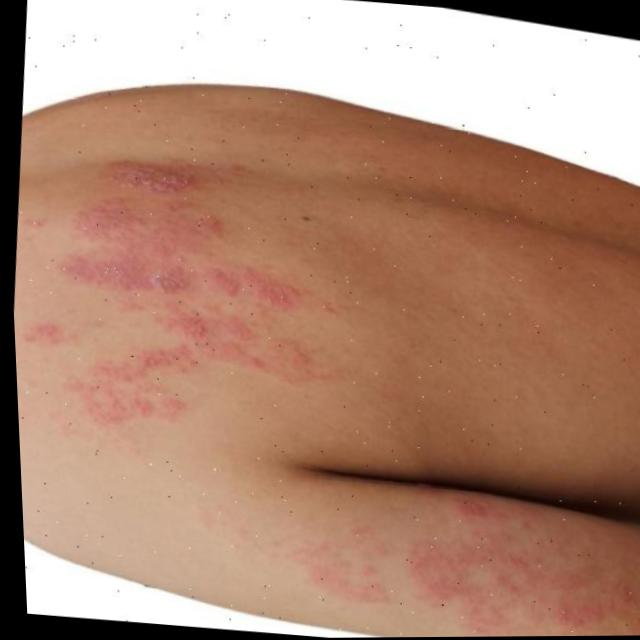Shingles: (31, 153, 331, 447), (300, 480, 640, 623)
